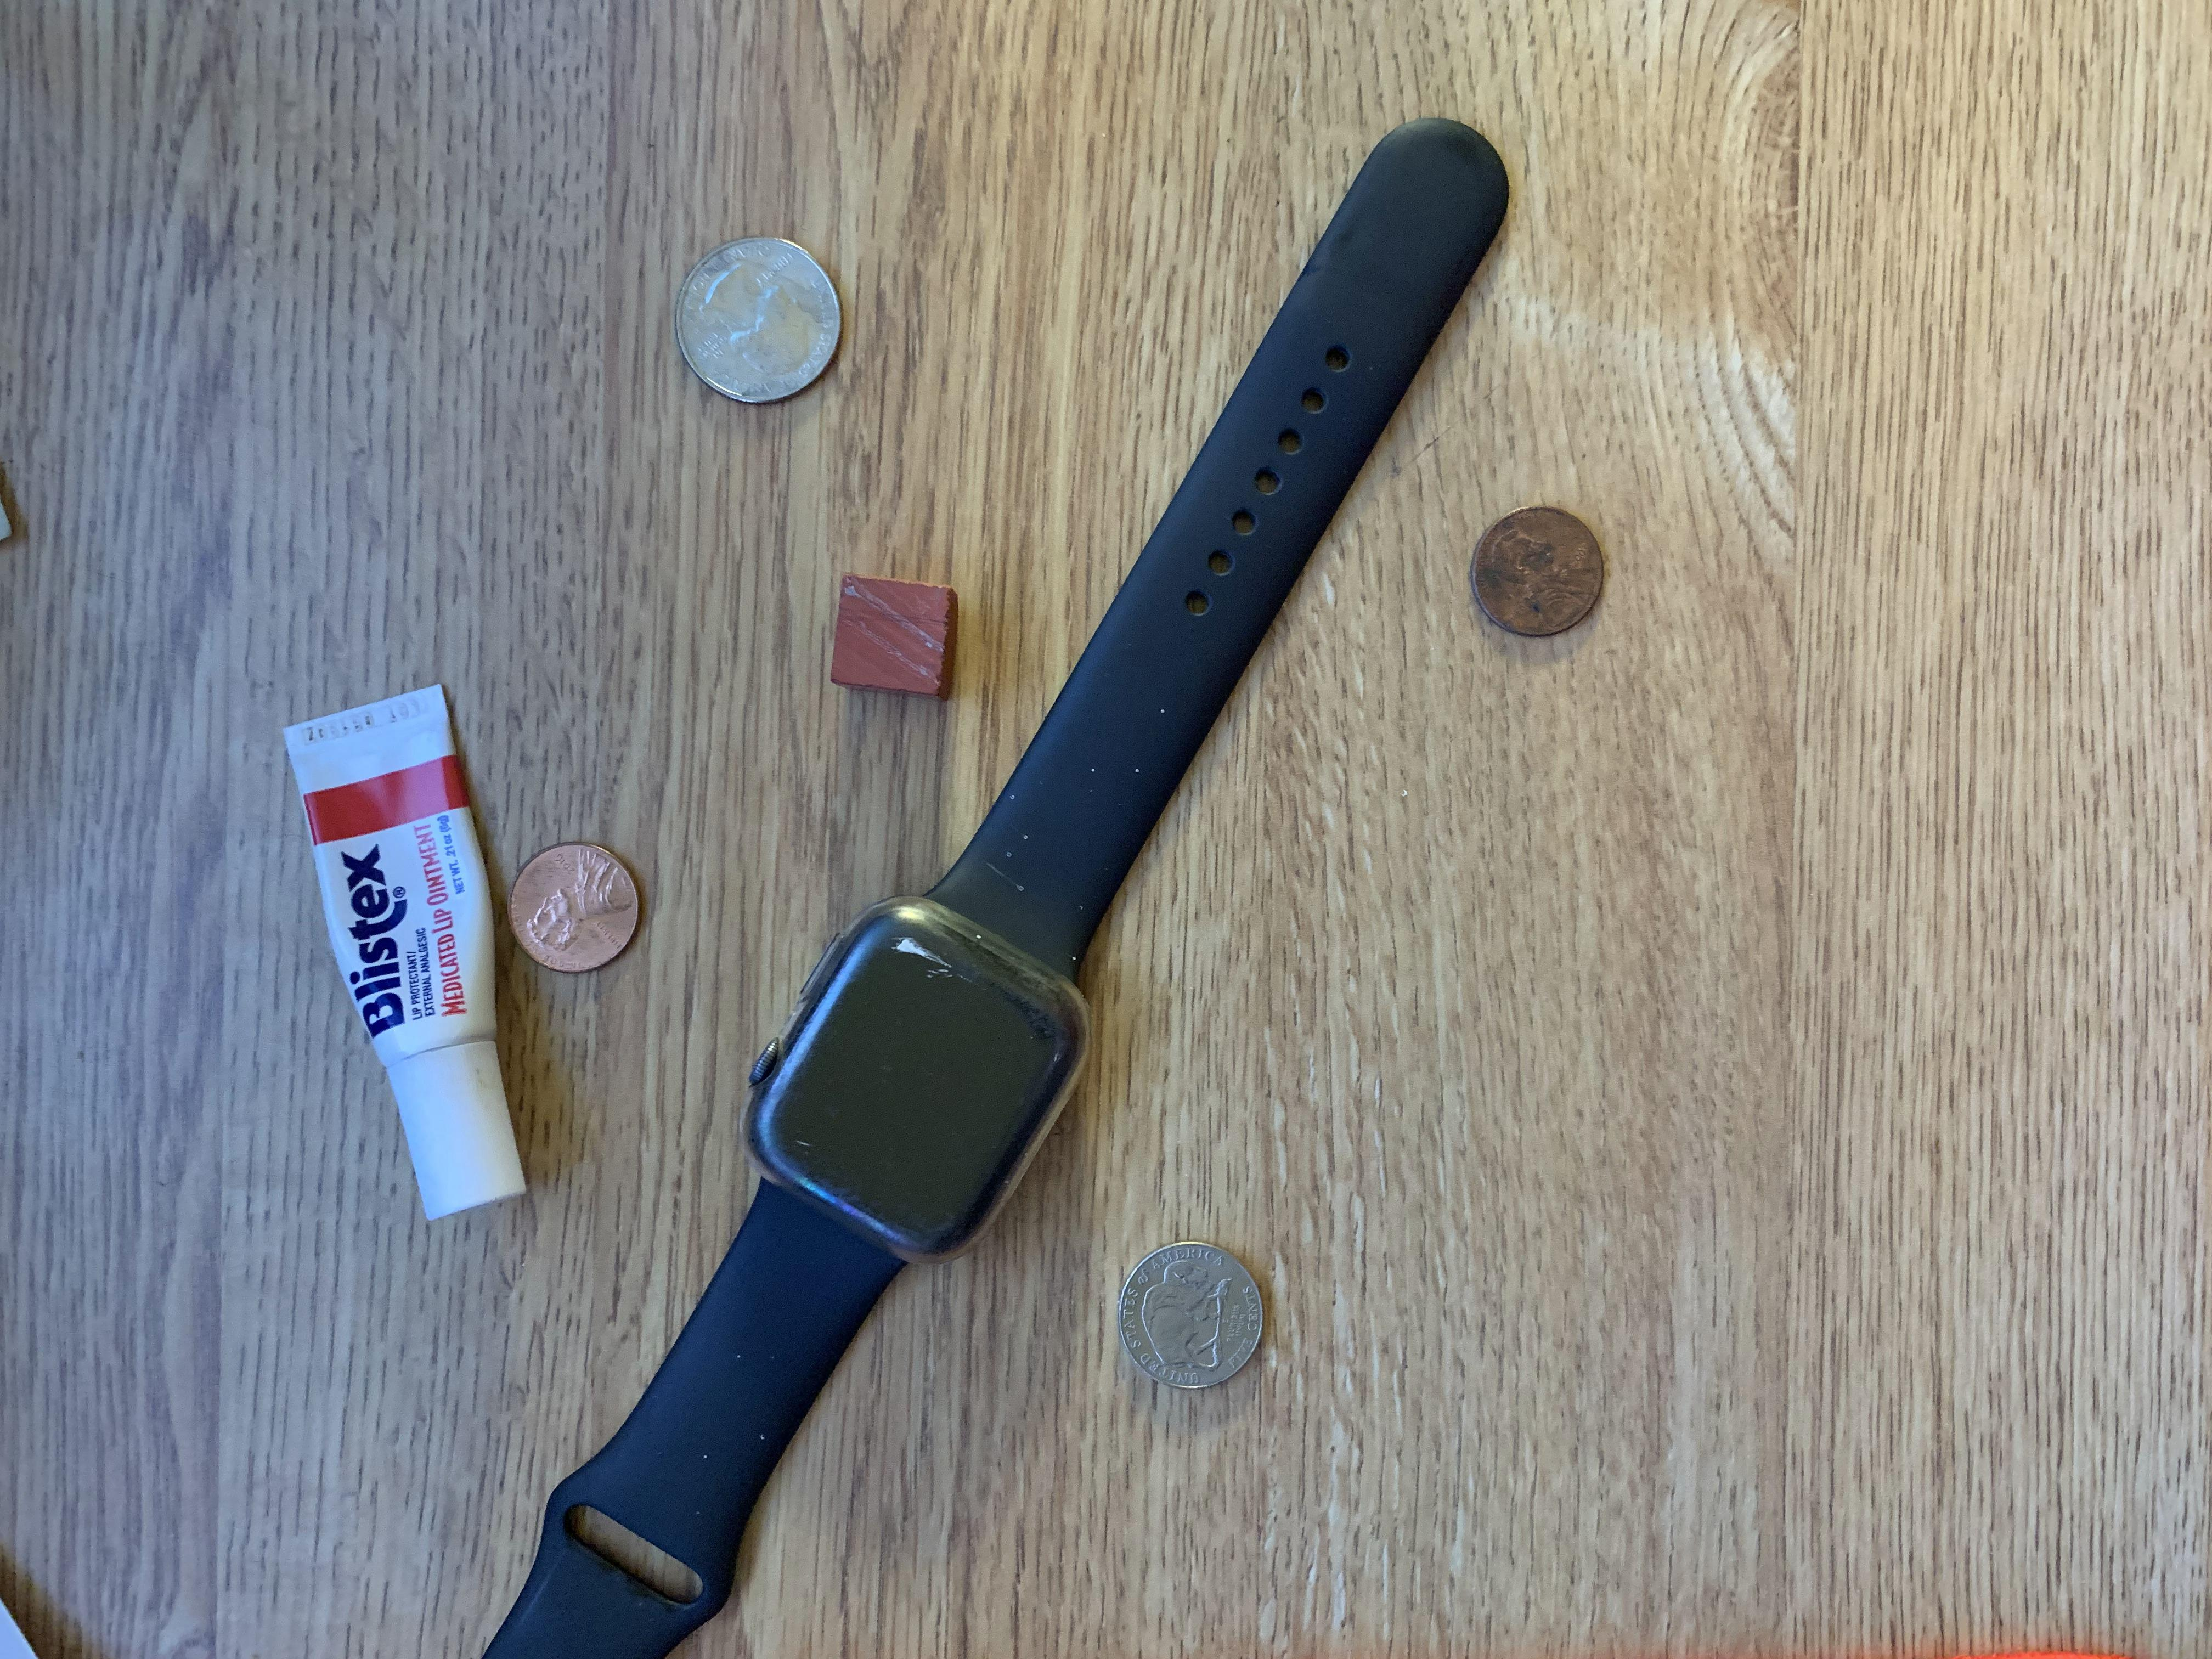Nickel: (1109, 1237, 1270, 1403)
Penny: (502, 833, 643, 979), (1463, 502, 1611, 641)
Quarter: (669, 234, 840, 413)
